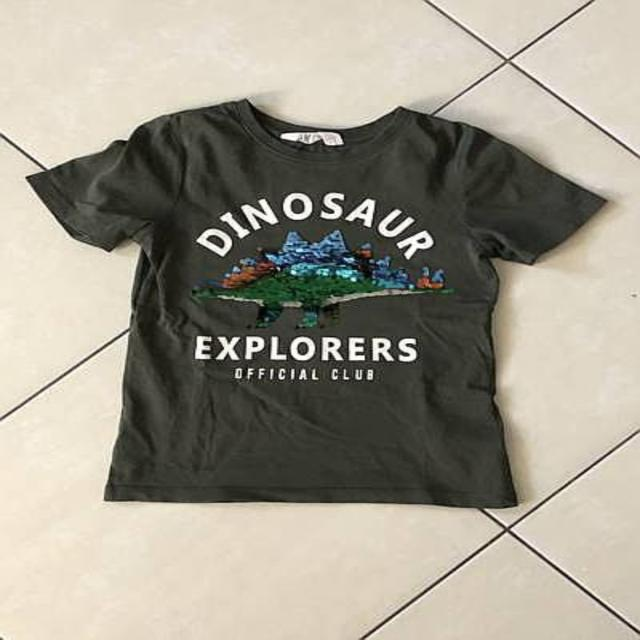T_SHIRT: (10, 90, 640, 517)
